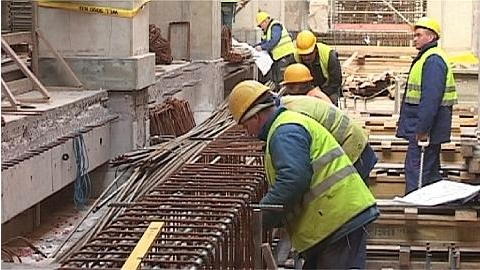yellow: (227, 80, 273, 133), (283, 63, 311, 93), (413, 17, 440, 48), (294, 31, 316, 61), (254, 12, 270, 31)
